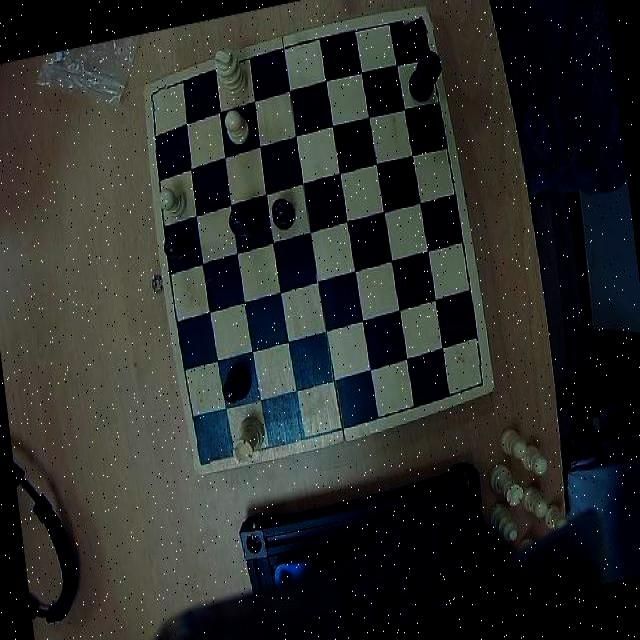chess-table-corners: (458, 362, 492, 398), (402, 7, 434, 42), (192, 439, 225, 472), (143, 80, 170, 112)
